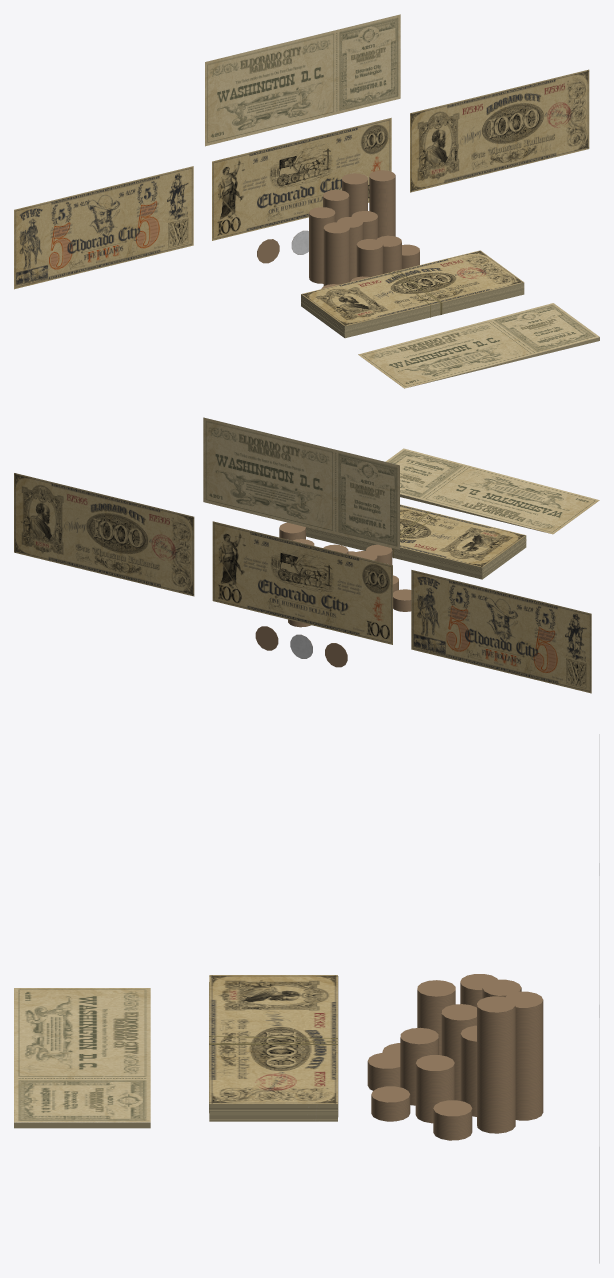
The model's file is Money.fbx.
The picture shows the model from 3 angles, top to bottom: view 1: azimuth 30°, elevation 25°; view 2: azimuth 150°, elevation 25°; view 3: azimuth 270°, elevation 25°; orthographic projection. The views are drawn at different scales.
Parts seen in each view (by area): view 1: Train_ticket, Money_5, Money_1000, Money_100, Bunch_of_money_1000, Train_ticket_stapled, Stack_of_coins_5, Stack_of_coins_1, Stack_of_coins_4, Stack_of_coins_8, Stack_of_coins_2, Stack_of_coins_9 (+2 smaller); view 2: Train_ticket, Money_5, Money_100, Money_1000, Train_ticket_stapled, Bunch_of_money_1000, Money_coin_50, Money_coin_1, Money_coin, Stack_of_coins_1, Stack_of_coins_13; view 3: Train_ticket_stapled, Bunch_of_money_1000, Stack_of_coins_1, Stack_of_coins_2, Stack_of_coins_9, Stack_of_coins_8, Stack_of_coins_6, Stack_of_coins_5, Stack_of_coins_11, Stack_of_coins_7, Stack_of_coins_12, Stack_of_coins_10 (+1 smaller).
Boxes of the visible parts, box(x1,y1,x2,y2) form: Train_ticket: box(205, 14, 400, 146); Money_5: box(14, 166, 193, 289); Money_1000: box(410, 69, 589, 192); Money_100: box(212, 117, 391, 240); Bunch_of_money_1000: box(301, 250, 524, 338); Train_ticket_stapled: box(358, 303, 599, 388); Stack_of_coins_5: box(323, 222, 349, 285); Stack_of_coins_1: box(369, 170, 395, 237); Stack_of_coins_4: box(309, 207, 335, 283); Stack_of_coins_8: box(356, 239, 383, 277); Stack_of_coins_2: box(342, 173, 367, 216); Stack_of_coins_9: box(377, 235, 401, 273); Train_ticket: box(203, 417, 399, 549); Money_5: box(411, 570, 591, 693); Money_100: box(212, 521, 392, 644); Money_1000: box(14, 473, 194, 596); Train_ticket_stapled: box(385, 448, 599, 534); Bunch_of_money_1000: box(306, 504, 526, 579); Money_coin_50: box(255, 626, 278, 650); Money_coin_1: box(325, 643, 347, 667); Money_coin: box(290, 634, 312, 658); Stack_of_coins_1: box(279, 522, 305, 540); Stack_of_coins_13: box(393, 589, 411, 611); Train_ticket_stapled: box(14, 988, 150, 1128); Bunch_of_money_1000: box(209, 975, 338, 1121); Stack_of_coins_1: box(477, 996, 515, 1133); Stack_of_coins_2: box(506, 991, 543, 1120); Stack_of_coins_9: box(415, 1055, 454, 1123); Stack_of_coins_8: box(400, 1027, 438, 1105); Stack_of_coins_6: box(441, 1004, 476, 1100); Stack_of_coins_5: box(417, 980, 455, 1055); Stack_of_coins_11: box(433, 1100, 472, 1140); Stack_of_coins_7: box(460, 1025, 476, 1116); Stack_of_coins_12: box(371, 1086, 410, 1121); Stack_of_coins_10: box(367, 1052, 400, 1090).
Bounding box in the file's own units: 50 × 17.99 × 30.
1 material, 1 textured.
